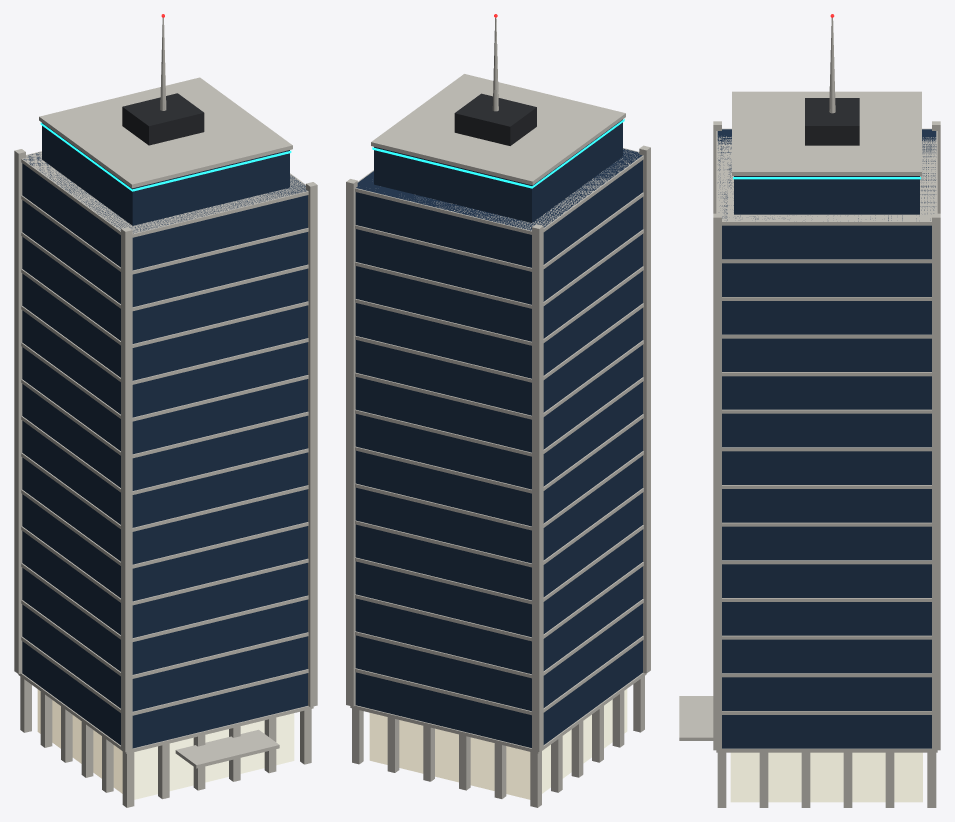
File: bld_office_01.glb
3 views of the same model, side by side, from view 1: azimuth 30°, elevation 25°; view 2: azimuth 150°, elevation 25°; view 3: azimuth 270°, elevation 25° (orthographic). The views are drawn at different scales.
Parts seen in each view (by area): view 1: bld_office_01; view 2: bld_office_01; view 3: bld_office_01.
Part boxes in pixels (<box>): bld_office_01: <box>14,14,317,807</box>; bld_office_01: <box>346,14,650,807</box>; bld_office_01: <box>679,14,940,807</box>.
Size of what is drawn, in the model's own units: 20.8 by 75.48 by 23.9.
